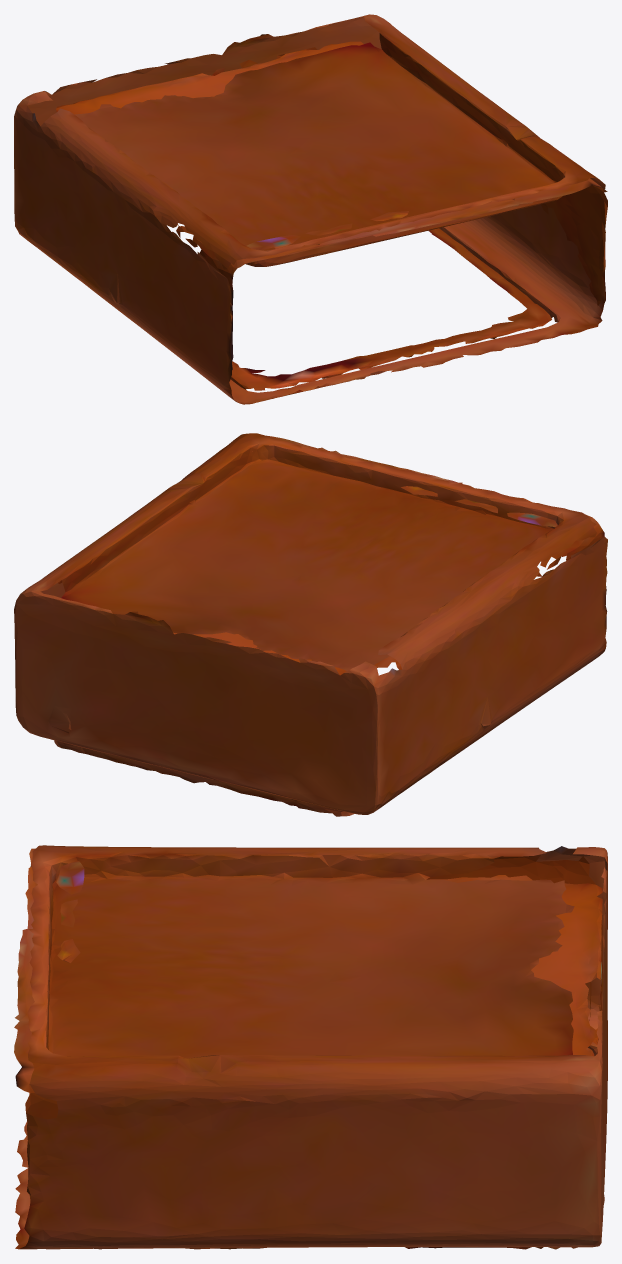
The model's file is scan.obj.
3 renders of one model, top to bottom at view 1: azimuth 30°, elevation 25°; view 2: azimuth 150°, elevation 25°; view 3: azimuth 270°, elevation 25°, orthographic. The views are drawn at different scales.
Visible parts, largest first — view 1: scan.ply; view 2: scan.ply; view 3: scan.ply.
Part boxes in pixels (box(x1,y1,x2,y2)): scan.ply: box(14, 14, 607, 404); scan.ply: box(14, 433, 607, 816); scan.ply: box(14, 845, 607, 1249).
Bounding box in the file's own units: 0.2014 × 0.0825 × 0.2133.
